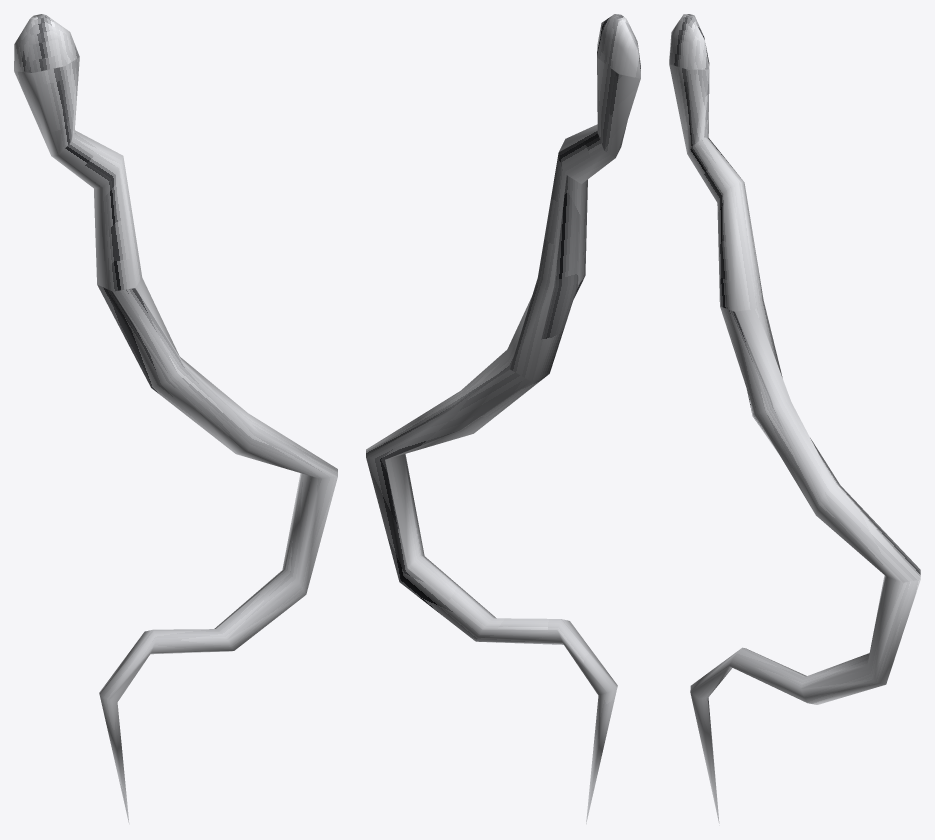
File: snake_000011.obj
3 views of the same model, side by side, from view 1: azimuth 30°, elevation 25°; view 2: azimuth 150°, elevation 25°; view 3: azimuth 330°, elevation 25° (orthographic). The views are drawn at different scales.
Visible parts, largest first — view 1: Cylinder; view 2: Cylinder; view 3: Cylinder.
Boxes of the visible parts, x1,y1,x2,y2 form: Cylinder: [14, 14, 337, 824]; Cylinder: [366, 14, 640, 824]; Cylinder: [669, 14, 920, 825].
Size of the model in its own units: 3.09 by 8.11 by 0.8124.
